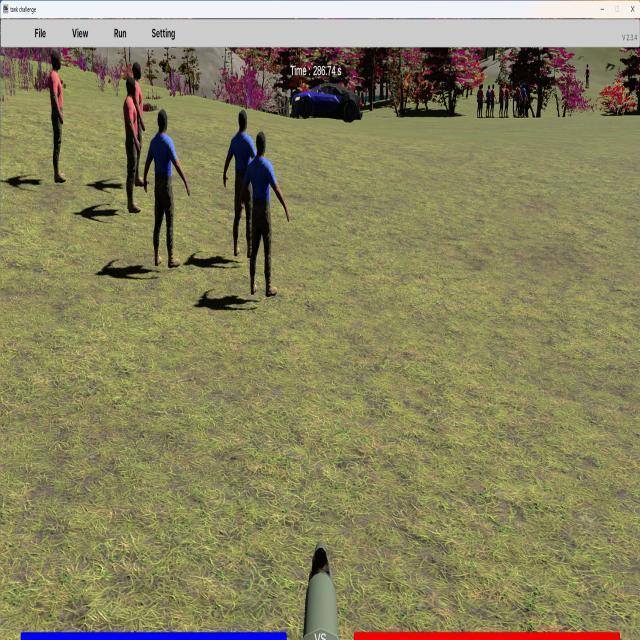Human: (240, 131, 289, 298), (142, 108, 190, 269), (223, 111, 267, 259), (123, 76, 141, 214), (49, 50, 67, 183)
car: (291, 84, 362, 122)
